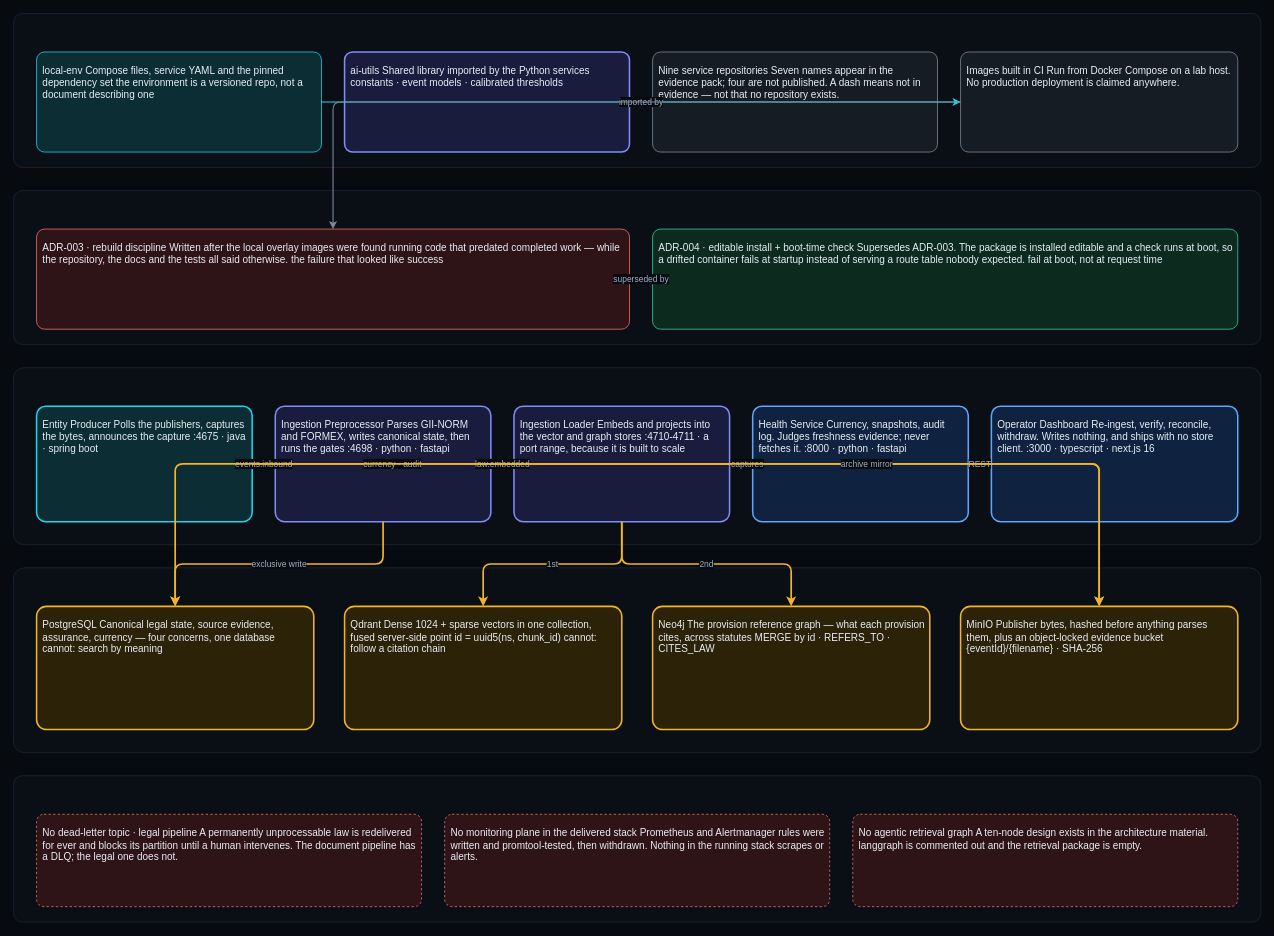
This 1274x936 diagram has some shape labels left out. The box of each missing label's shape, as (x1, y1, x2, y2) in pixels:
1 · REPOSITORIES, AND THE ENVIRONMENT AS ONE OF THEM: (13, 13, 1261, 167)
2 · HOW DEPENDENCIES REACH A CONTAINER — ADR-003, SUPERSEDED BY ADR-004: (13, 190, 1261, 345)
3 · RUNTIME — DOCKER COMPOSE, FIVE HOST PORTS: (13, 367, 1261, 545)
4 · PERSISTENCE — THREE DATABASES AND ONE OBJECT STORE: (13, 567, 1261, 753)
5 · DRAWN BECAUSE IT IS ABSENT — RECORDED IN THE REPOSITORY: (13, 775, 1261, 922)
